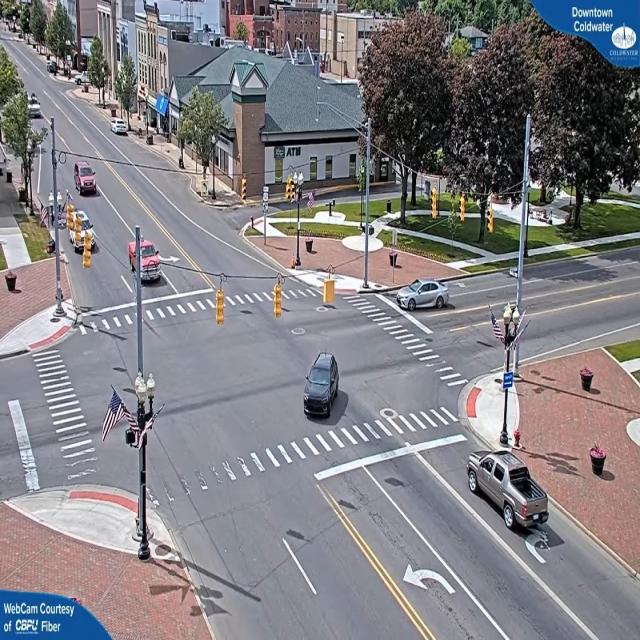car: (467, 451, 552, 536), (302, 352, 341, 420), (397, 279, 453, 309), (75, 162, 98, 195), (112, 120, 128, 136)
